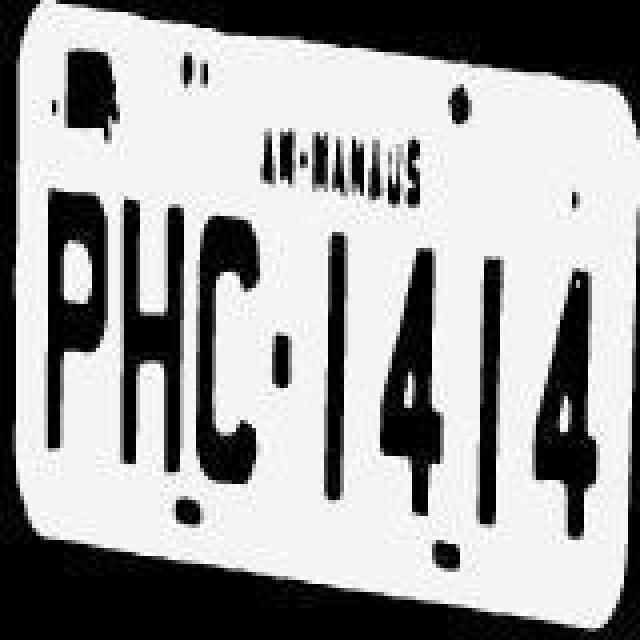1: (316, 220, 364, 500), (466, 252, 510, 548)
4: (374, 238, 450, 522), (532, 260, 604, 556)
C: (192, 208, 272, 488)
H: (116, 176, 188, 480)
P: (42, 182, 118, 498)
